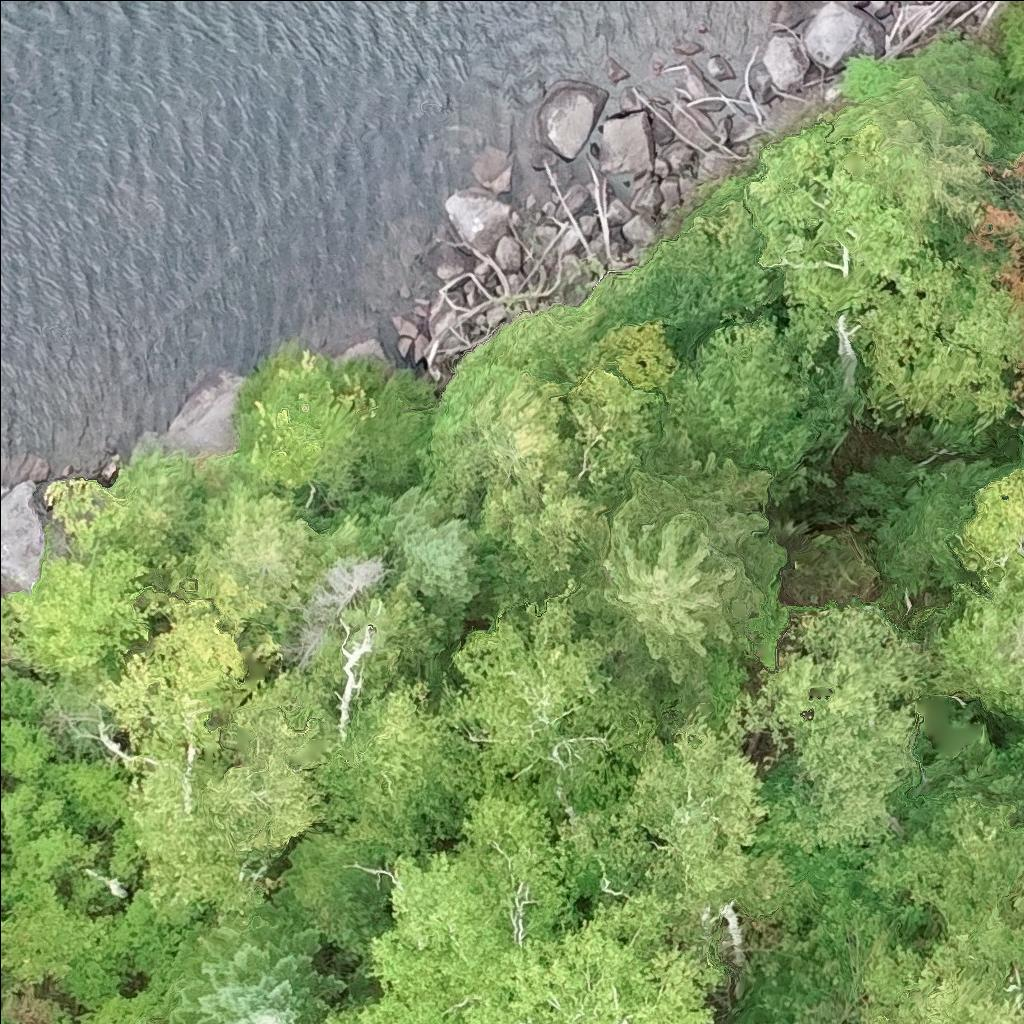crown: (321, 789, 726, 1023), (94, 600, 324, 919), (570, 448, 789, 712), (732, 602, 940, 860), (552, 699, 793, 919), (435, 584, 649, 817), (308, 673, 485, 869), (746, 123, 922, 314), (648, 312, 841, 480), (857, 248, 1023, 418), (844, 792, 1023, 940), (167, 896, 350, 1023), (471, 465, 613, 619), (197, 475, 326, 642), (433, 373, 568, 508), (547, 369, 668, 514), (380, 482, 484, 644), (234, 365, 366, 491), (854, 930, 1023, 1023), (964, 860, 1023, 999), (955, 470, 1023, 571), (965, 201, 1023, 309), (1007, 346, 1023, 401), (1011, 154, 1023, 197), (764, 1014, 792, 1023), (736, 1020, 759, 1023)
